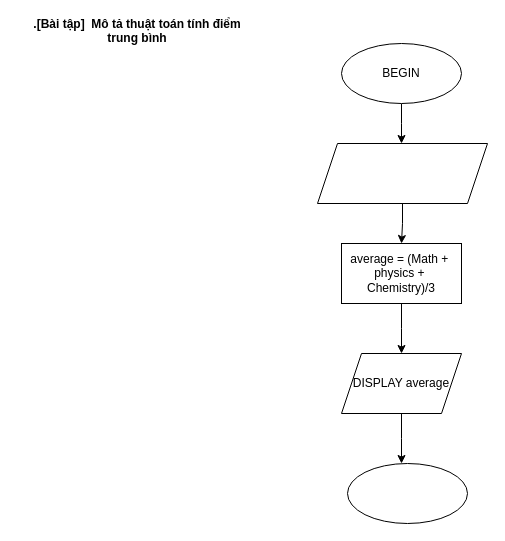
The diagram is 505 pixels wide and 541 high, and some of its shapes have lost their labels. The shapes that lost their labels are listed below. From the top down, each one's centre as x and y in pixels, then its label:
the point at 402,173: INPUT Math, physics, Chemistry
the point at 407,493: END
